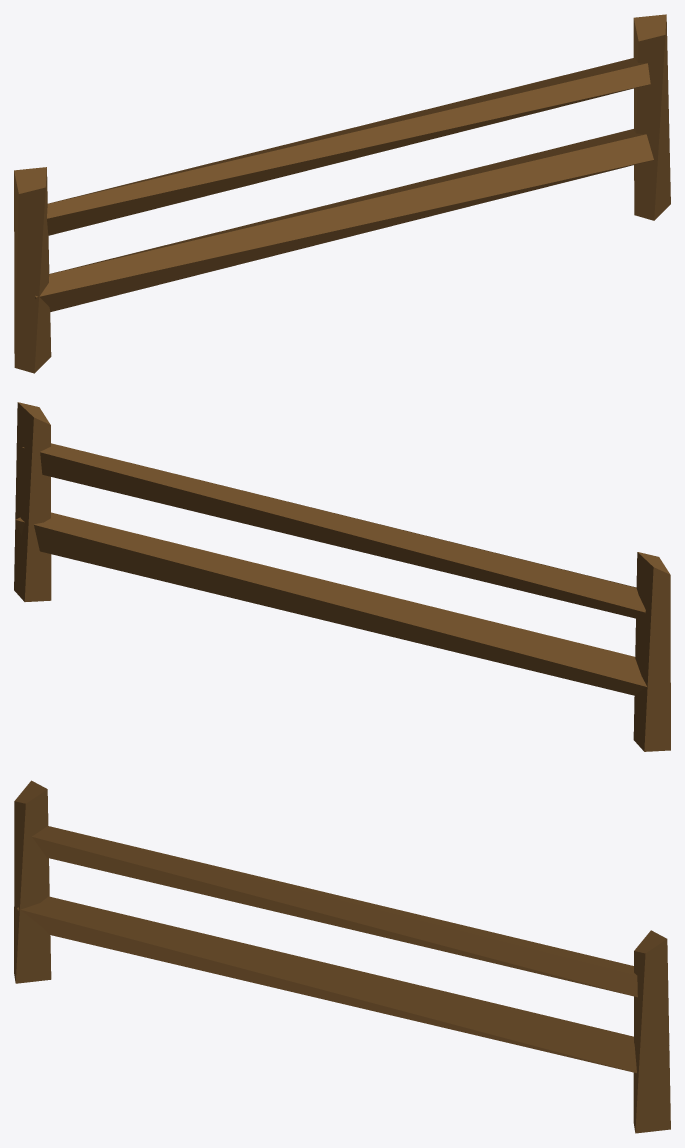
File: Wooden_Fences1.fbx
3 renders of one model, top to bottom at view 1: azimuth 30°, elevation 25°; view 2: azimuth 150°, elevation 25°; view 3: azimuth 330°, elevation 25°, orthographic.
Visible parts, largest first — view 1: Wooden_Fences1; view 2: Wooden_Fences1; view 3: Wooden_Fences1.
Part boxes in pixels (x1,y1,x2,y2): Wooden_Fences1: (14, 14, 670, 373); Wooden_Fences1: (14, 402, 670, 751); Wooden_Fences1: (14, 780, 670, 1133).
Bounding box in the file's own units: 459 × 129 × 24.42.
